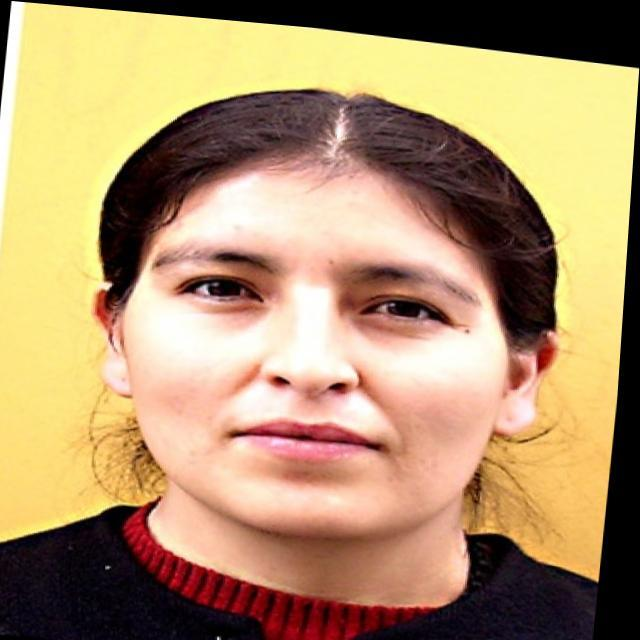Nonhelmet: (83, 84, 567, 544)
